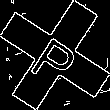P_NE: (26, 24, 84, 86)
